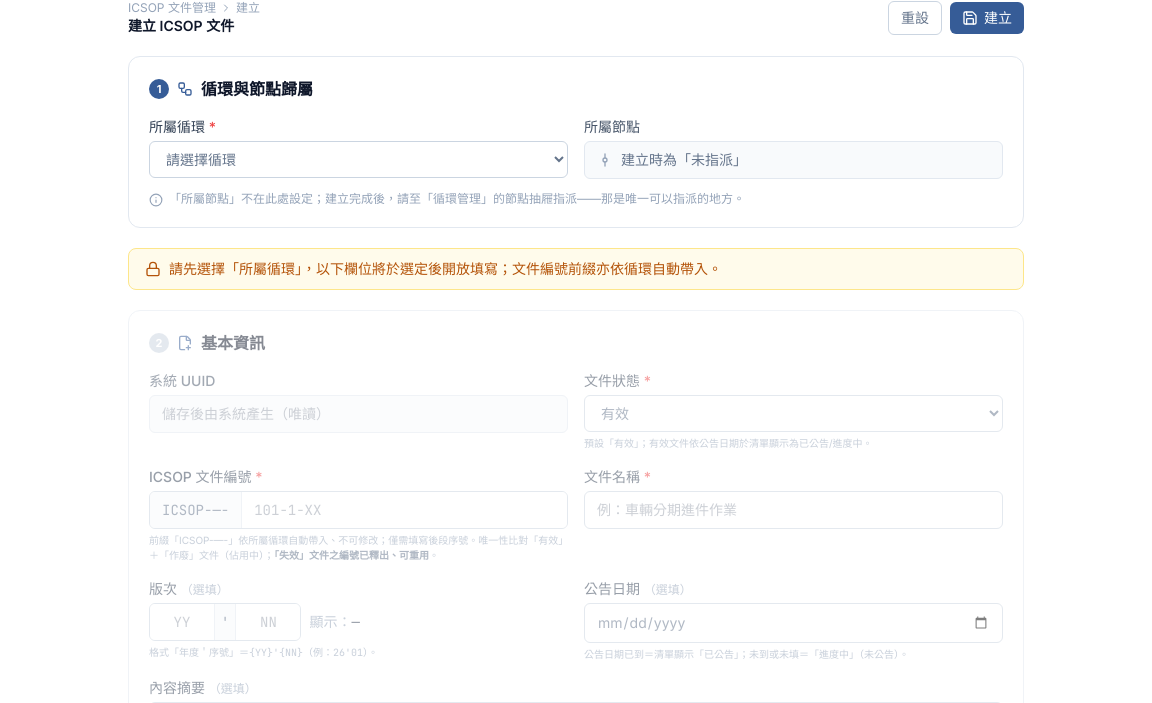
DocumentCreatePage — STEP3 制定組織與當責室長（F014，移植 prototype 14 STEP3） › 三級由上而下：制定部門於未選公司時停用；選定公司後開放
Select "銷售及收款循環" in the dropdown named "所屬循環" at (358, 160), box [149,141,568,178]
(page scrolled)
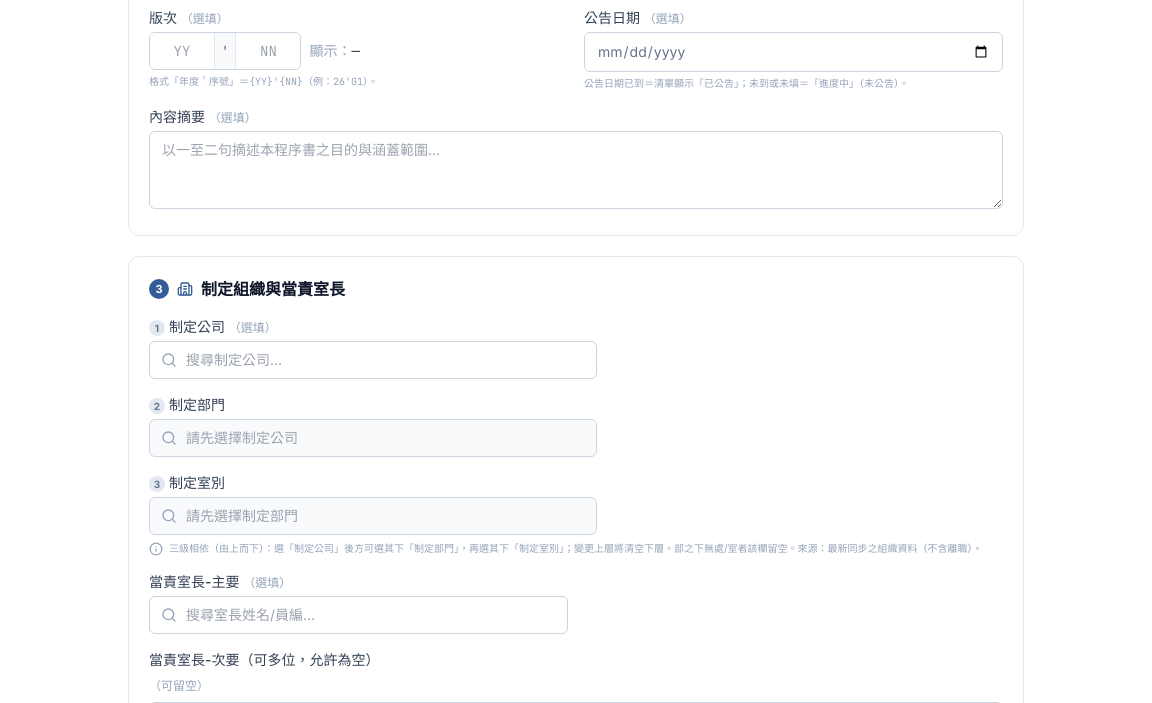
Expected: the dropdown labelled "2 制定部門" is disabled, [149,419,597,457]
Click the dropdown labelled "1 制定公司 （選填）" at (373, 360), box [149,341,597,379]
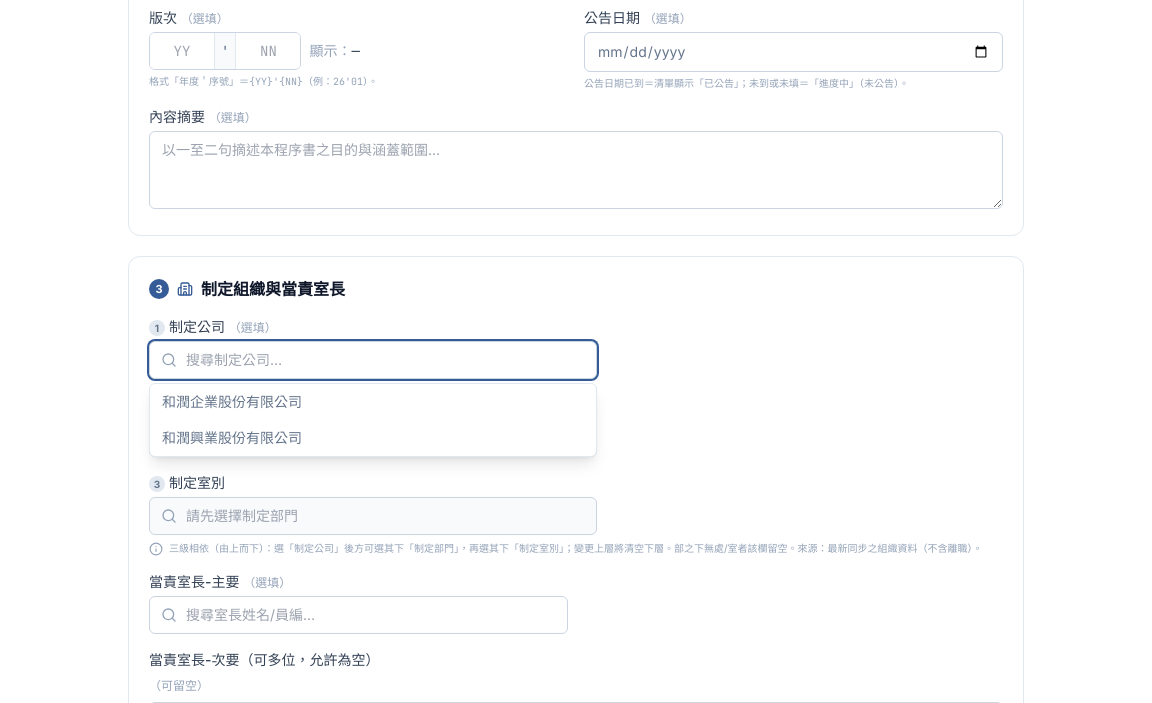
Click the option "和潤企業股份有限公司" at (232, 402), box [150,384,596,420]
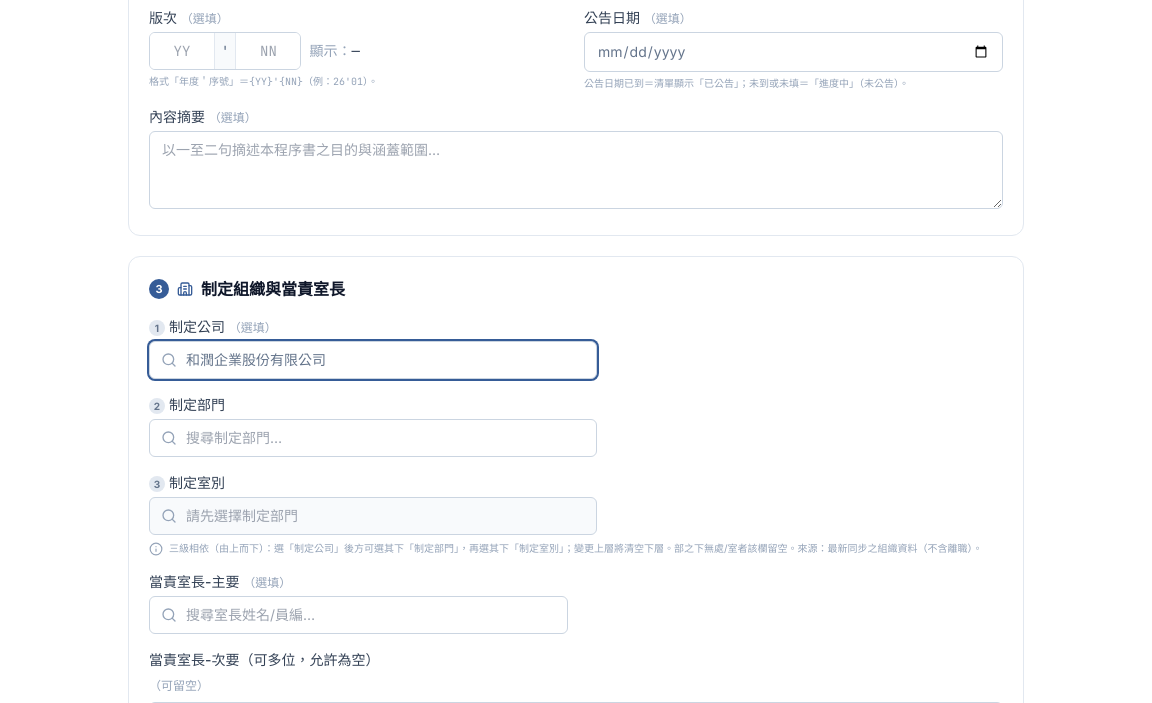
Result: the dropdown labelled "2 制定部門" is enabled at [149,419,597,457]
